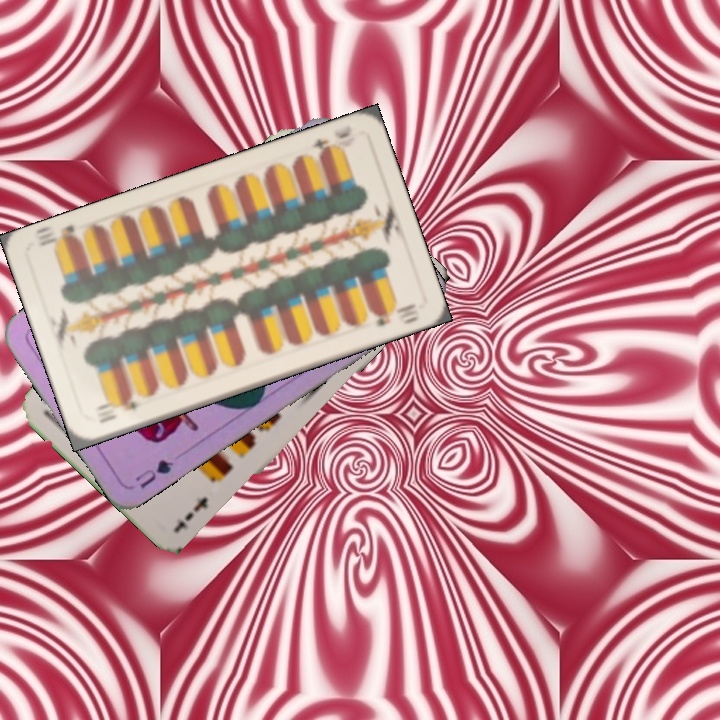E10: (306, 121, 355, 160), (93, 396, 140, 426)
E7: (181, 493, 211, 524)
GU: (131, 455, 176, 492)
